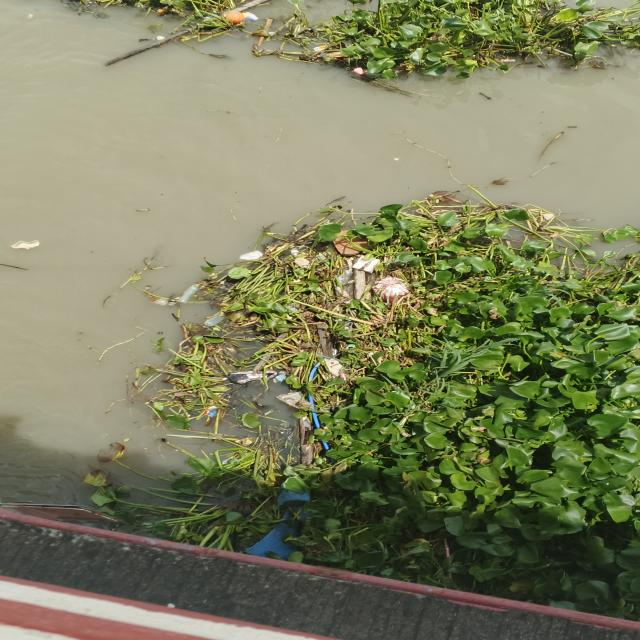Fabric and Textiles: (242, 475, 312, 559)
Organic Debris: (59, 184, 640, 621), (0, 0, 640, 103), (98, 0, 272, 69), (388, 130, 474, 186), (534, 130, 566, 162), (526, 162, 561, 179), (0, 261, 31, 273), (474, 178, 507, 188), (561, 124, 583, 133), (132, 207, 152, 214), (393, 157, 402, 162)
Paper and Cardboard: (353, 254, 381, 275)
Plastic: (372, 276, 412, 301), (226, 369, 277, 384), (272, 391, 302, 408), (176, 284, 199, 304), (10, 239, 42, 252), (321, 360, 344, 378), (237, 248, 265, 262), (203, 311, 224, 327), (332, 286, 354, 300), (224, 8, 242, 24), (336, 270, 352, 286), (313, 252, 332, 265), (292, 256, 310, 269), (285, 244, 303, 257), (272, 370, 289, 383), (239, 11, 261, 21), (148, 297, 172, 306), (352, 67, 370, 77), (201, 405, 217, 416), (338, 368, 348, 382), (312, 45, 331, 52), (206, 411, 219, 418), (154, 36, 167, 42)
